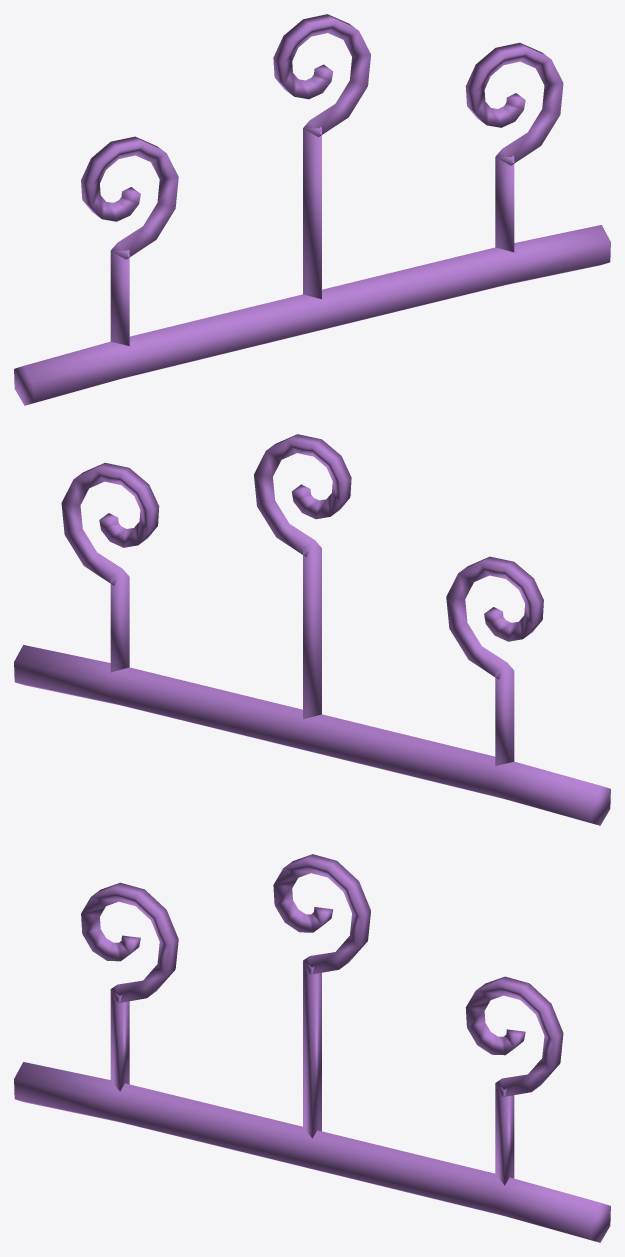
Rendered from head-spiral-crown.glb.
3 views of the same model, one above another, from view 1: azimuth 30°, elevation 25°; view 2: azimuth 150°, elevation 25°; view 3: azimuth 330°, elevation 25° (orthographic).
Parts seen in each view (by area): view 1: accessory_spiral_crown; view 2: accessory_spiral_crown; view 3: accessory_spiral_crown.
Part boxes in pixels (x1,y1,x2,y2): accessory_spiral_crown: (14, 14, 610, 405); accessory_spiral_crown: (14, 434, 610, 825); accessory_spiral_crown: (14, 854, 610, 1242).
Bounding box in the file's own units: 0.3608 × 0.1871 × 0.0208.
